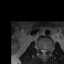CCS_normal: (43, 47, 44, 56)
LFS_stenosis: (46, 47, 48, 53)
LLS_normal: (44, 47, 46, 56)
RFS_stenosis: (38, 46, 41, 52)
RLS_normal: (41, 47, 43, 55)
